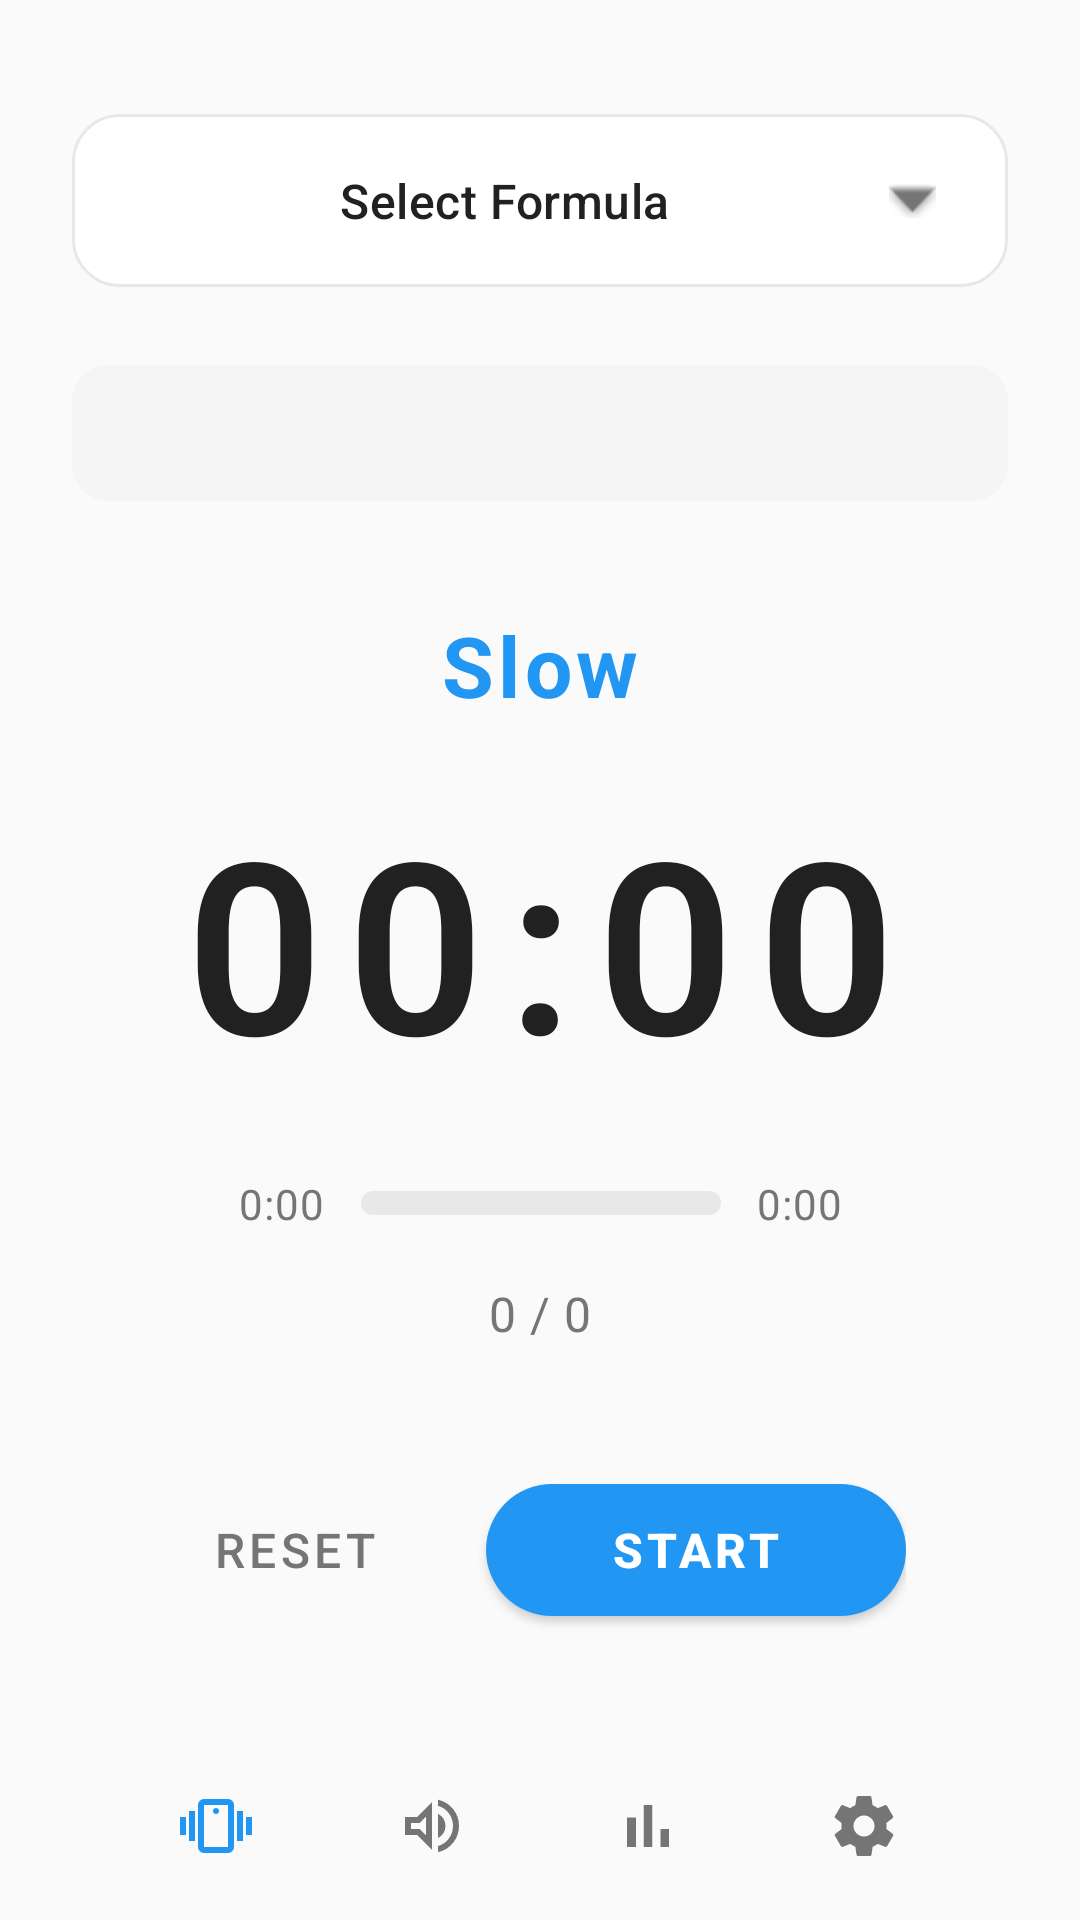

Named icons in this screenshot (1080x1920) and their bounding boxes, bbox(x1, y1, x2, y2):
Settings: bbox(834, 1796, 894, 1856)
Stats: bbox(627, 1805, 669, 1847)
Vibration: bbox(180, 1799, 252, 1853)
Voice: bbox(405, 1799, 459, 1852)
